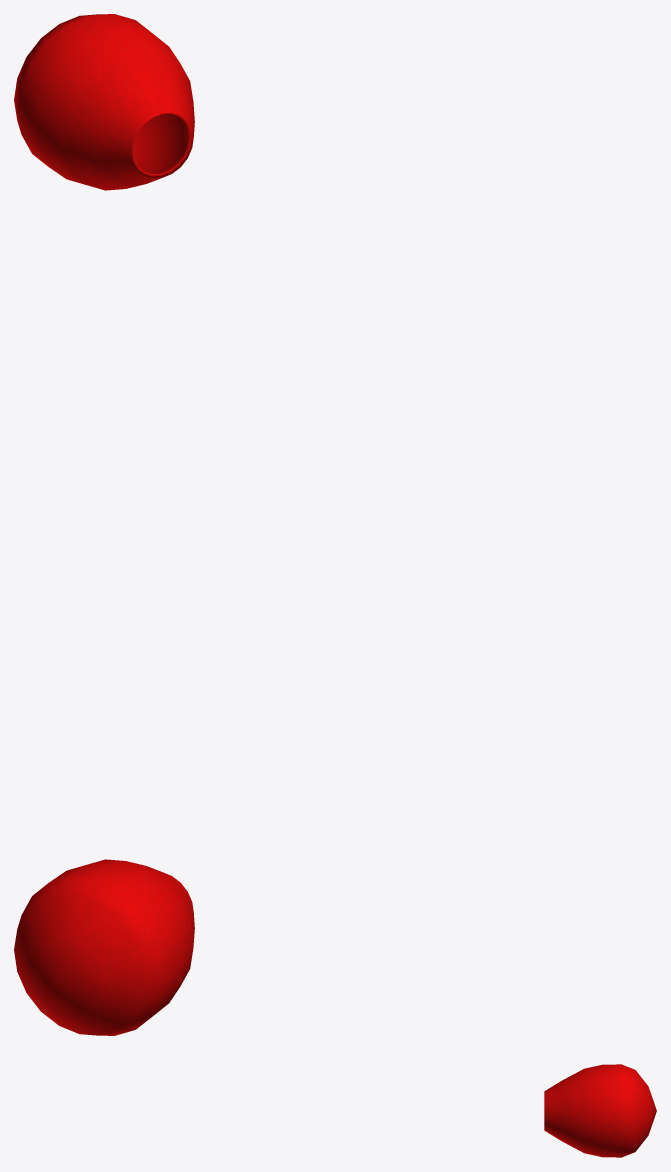
Rendered from goteroV2.fbx.
3 views of the same model, one above another, from view 1: azimuth 30°, elevation 25°; view 2: azimuth 150°, elevation 25°; view 3: azimuth 270°, elevation 25° (orthographic). The views are drawn at different scales.
Visible parts, largest first — view 1: lab_gotero; view 2: lab_gotero; view 3: lab_gotero.
Boxes of the visible parts, bbox=[...] form: lab_gotero: bbox=[14, 14, 194, 190]; lab_gotero: bbox=[14, 859, 194, 1035]; lab_gotero: bbox=[544, 1064, 656, 1157].
Bounding box in the file's own units: 2.06 × 2.06 × 14.12.
1 material, 1 textured.
